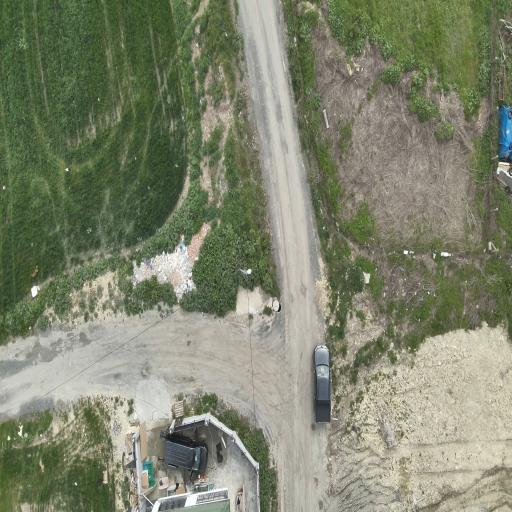car: (163, 432, 207, 472), (313, 346, 330, 423)
